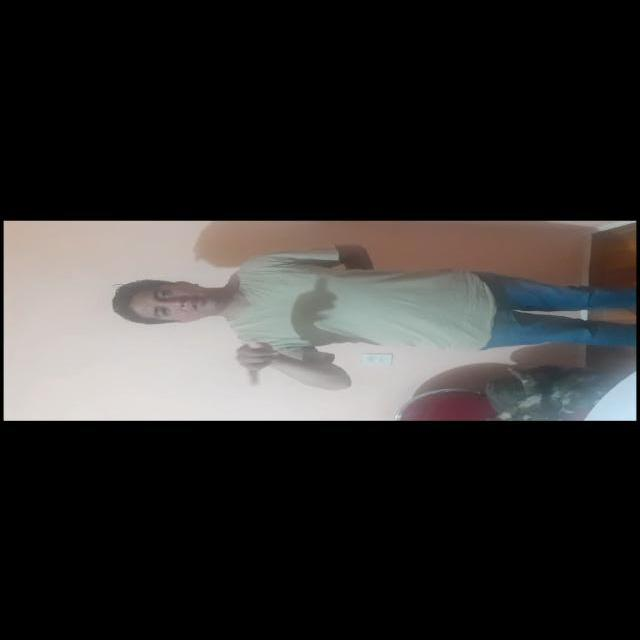J: (222, 334, 296, 390)
